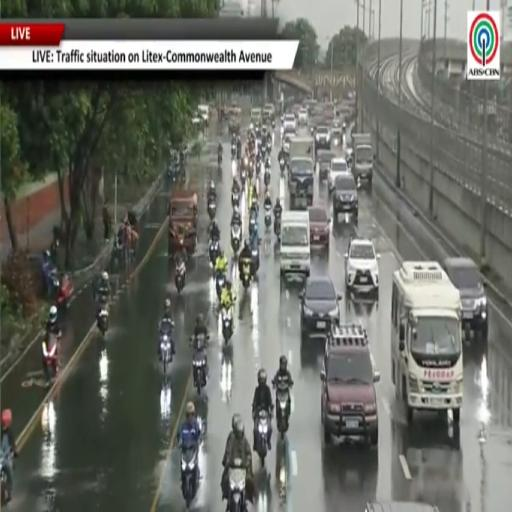car: (321, 325, 380, 445), (444, 258, 488, 339), (300, 276, 341, 340), (280, 211, 310, 281), (345, 237, 379, 294), (289, 157, 314, 209), (333, 173, 358, 219), (309, 206, 330, 248), (328, 157, 350, 193), (364, 502, 439, 511), (316, 150, 335, 181), (315, 125, 330, 149), (282, 113, 298, 133), (331, 119, 342, 147), (345, 138, 353, 168), (263, 104, 275, 122), (251, 108, 261, 125), (298, 108, 308, 125), (282, 133, 290, 154)
motorcycle: (181, 448, 199, 508), (228, 458, 246, 511), (274, 381, 290, 439), (256, 410, 270, 465), (42, 334, 58, 381), (0, 451, 13, 506), (193, 349, 207, 395), (57, 274, 73, 308), (160, 330, 172, 373), (97, 300, 109, 335), (222, 308, 232, 343), (175, 261, 185, 293), (241, 261, 251, 290), (252, 239, 260, 275), (209, 239, 220, 265), (231, 224, 241, 252), (216, 272, 226, 299), (249, 211, 257, 235), (264, 205, 272, 229), (207, 200, 216, 220), (248, 159, 255, 184), (274, 216, 281, 239), (255, 155, 261, 177), (264, 167, 270, 187), (240, 168, 246, 187), (232, 191, 239, 207), (279, 157, 285, 174), (267, 138, 272, 154), (261, 144, 266, 159), (231, 144, 236, 158), (218, 152, 222, 166), (271, 120, 275, 130)
truck: (391, 262, 462, 424), (289, 137, 314, 209), (352, 134, 374, 185), (290, 136, 314, 159)
